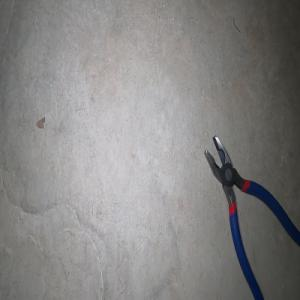Pliers: (203, 134, 300, 300)
